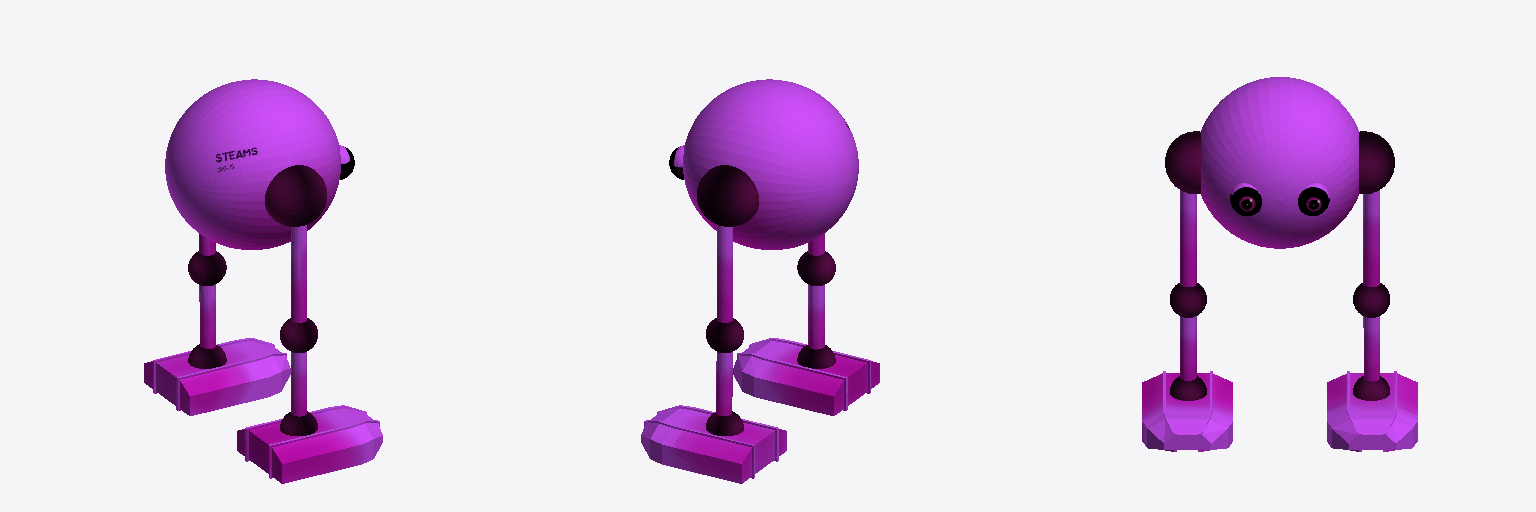
3 views of the same model, side by side, from view 1: azimuth 30°, elevation 25°; view 2: azimuth 150°, elevation 25°; view 3: azimuth 270°, elevation 25° (orthographic).
Visible parts, largest first — view 1: Personaje1_still:SphereFBXASC046001, Personaje1_still:SphereFBXASC046001Left_legpolySurface10polySurf, Personaje1_still:SphereFBXASC046001Right_legpolySurface9polySurf, Personaje1_still:SphereFBXASC046001Right_leg, Personaje1_still:SphereFBXASC046001Right_legpolySurface9, Personaje1_still:polySurface3, Personaje1_still:polySurface4, Personaje1_still:polySurface1, Personaje1_still:polySurface2; view 2: Personaje1_still:SphereFBXASC046001, Personaje1_still:SphereFBXASC046001Right_legpolySurface9polySurf, Personaje1_still:SphereFBXASC046001Left_legpolySurface10polySurf, Personaje1_still:SphereFBXASC046001Left_leg, Personaje1_still:SphereFBXASC046001Left_legpolySurface10, Personaje1_still:polySurface4, Personaje1_still:polySurface3, Personaje1_still:polySurface1, Personaje1_still:polySurface2; view 3: Personaje1_still:SphereFBXASC046001, Personaje1_still:SphereFBXASC046001Right_legpolySurface9polySurf, Personaje1_still:SphereFBXASC046001Left_legpolySurface10polySurf, Personaje1_still:SphereFBXASC046001Right_leg, Personaje1_still:SphereFBXASC046001Left_leg, Personaje1_still:SphereFBXASC046001Right_legpolySurface9, Personaje1_still:SphereFBXASC046001Left_legpolySurface10, Personaje1_still:polySurface3, Personaje1_still:polySurface4, Personaje1_still:SphereFBXASC046001Right_eye, Personaje1_still:SphereFBXASC046001Left_eye, Personaje1_still:polySurface2 (+1 smaller).
Boxes of the visible parts, box(x1,y1,x2,y2) form: Personaje1_still:SphereFBXASC046001: box(165, 79, 340, 249); Personaje1_still:SphereFBXASC046001Left_legpolySurface10polySurf: box(144, 284, 290, 415); Personaje1_still:SphereFBXASC046001Right_legpolySurface9polySurf: box(237, 352, 382, 483); Personaje1_still:SphereFBXASC046001Right_leg: box(265, 165, 326, 226); Personaje1_still:SphereFBXASC046001Right_legpolySurface9: box(291, 225, 306, 322); Personaje1_still:polySurface3: box(188, 251, 226, 285); Personaje1_still:polySurface4: box(280, 318, 317, 352); Personaje1_still:polySurface1: box(188, 344, 226, 368); Personaje1_still:polySurface2: box(280, 411, 317, 435); Personaje1_still:SphereFBXASC046001: box(683, 79, 858, 249); Personaje1_still:SphereFBXASC046001Right_legpolySurface9polySurf: box(733, 284, 879, 415); Personaje1_still:SphereFBXASC046001Left_legpolySurface10polySurf: box(641, 352, 786, 483); Personaje1_still:SphereFBXASC046001Left_leg: box(697, 165, 758, 226); Personaje1_still:SphereFBXASC046001Left_legpolySurface10: box(717, 225, 732, 322); Personaje1_still:polySurface4: box(797, 251, 835, 285); Personaje1_still:polySurface3: box(706, 318, 743, 352); Personaje1_still:polySurface1: box(706, 411, 743, 435); Personaje1_still:polySurface2: box(797, 345, 835, 368); Personaje1_still:SphereFBXASC046001: box(1201, 77, 1358, 248); Personaje1_still:SphereFBXASC046001Right_legpolySurface9polySurf: box(1142, 316, 1232, 451); Personaje1_still:SphereFBXASC046001Left_legpolySurface10polySurf: box(1327, 316, 1417, 451); Personaje1_still:SphereFBXASC046001Right_leg: box(1165, 131, 1200, 193); Personaje1_still:SphereFBXASC046001Left_leg: box(1359, 131, 1394, 193); Personaje1_still:SphereFBXASC046001Right_legpolySurface9: box(1180, 190, 1196, 286); Personaje1_still:SphereFBXASC046001Left_legpolySurface10: box(1363, 190, 1379, 286); Personaje1_still:polySurface3: box(1353, 283, 1389, 317); Personaje1_still:polySurface4: box(1170, 283, 1206, 317); Personaje1_still:SphereFBXASC046001Right_eye: box(1230, 183, 1261, 215); Personaje1_still:SphereFBXASC046001Left_eye: box(1298, 183, 1329, 215); Personaje1_still:polySurface2: box(1170, 376, 1206, 400).
Bounding box in the file's own units: 11.66 × 23.5 × 17.36.
Materials: 1 (1 with a texture image).